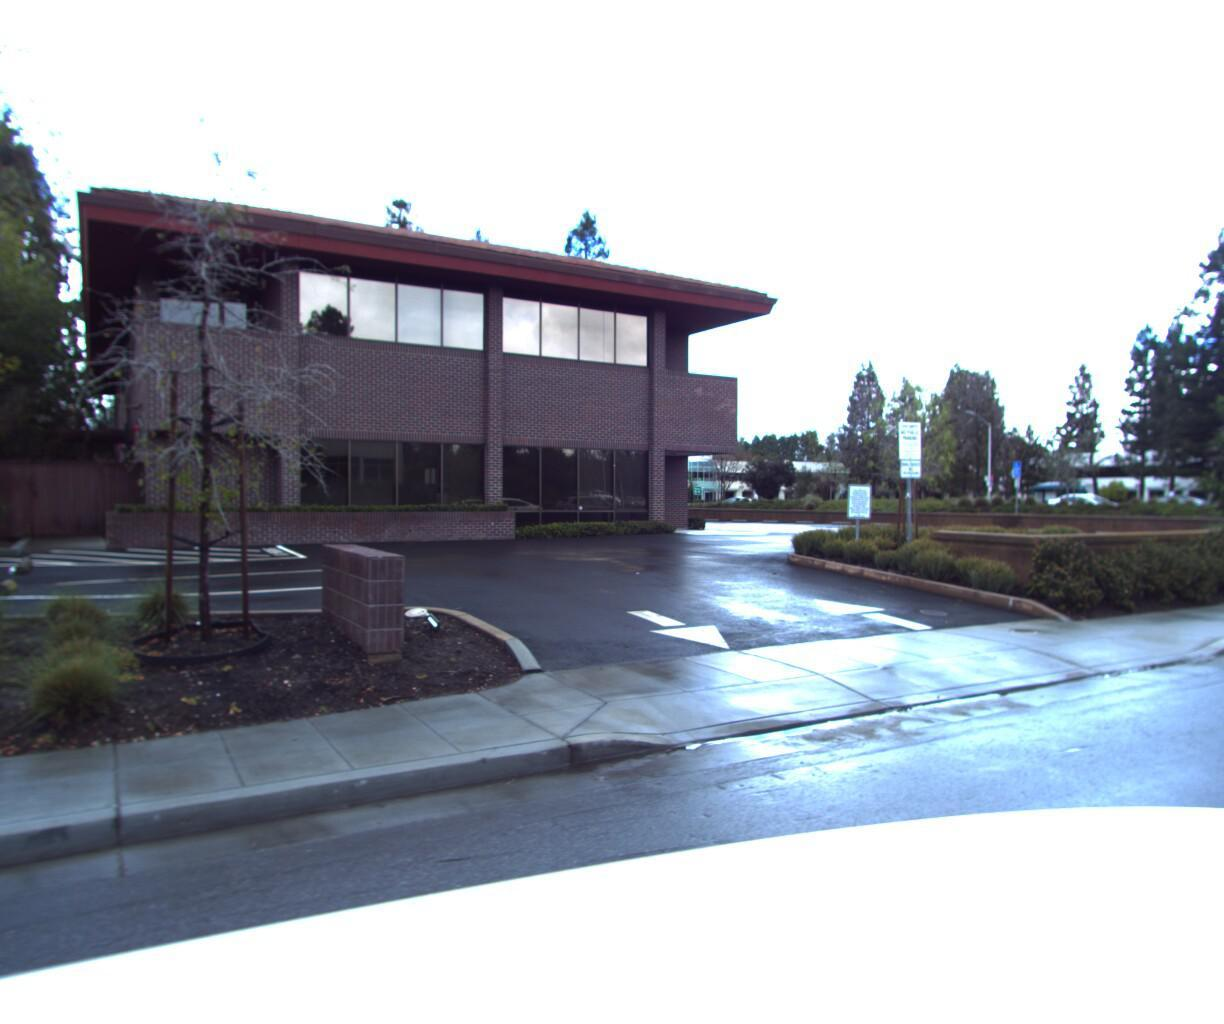car: (1040, 489, 1124, 516)
